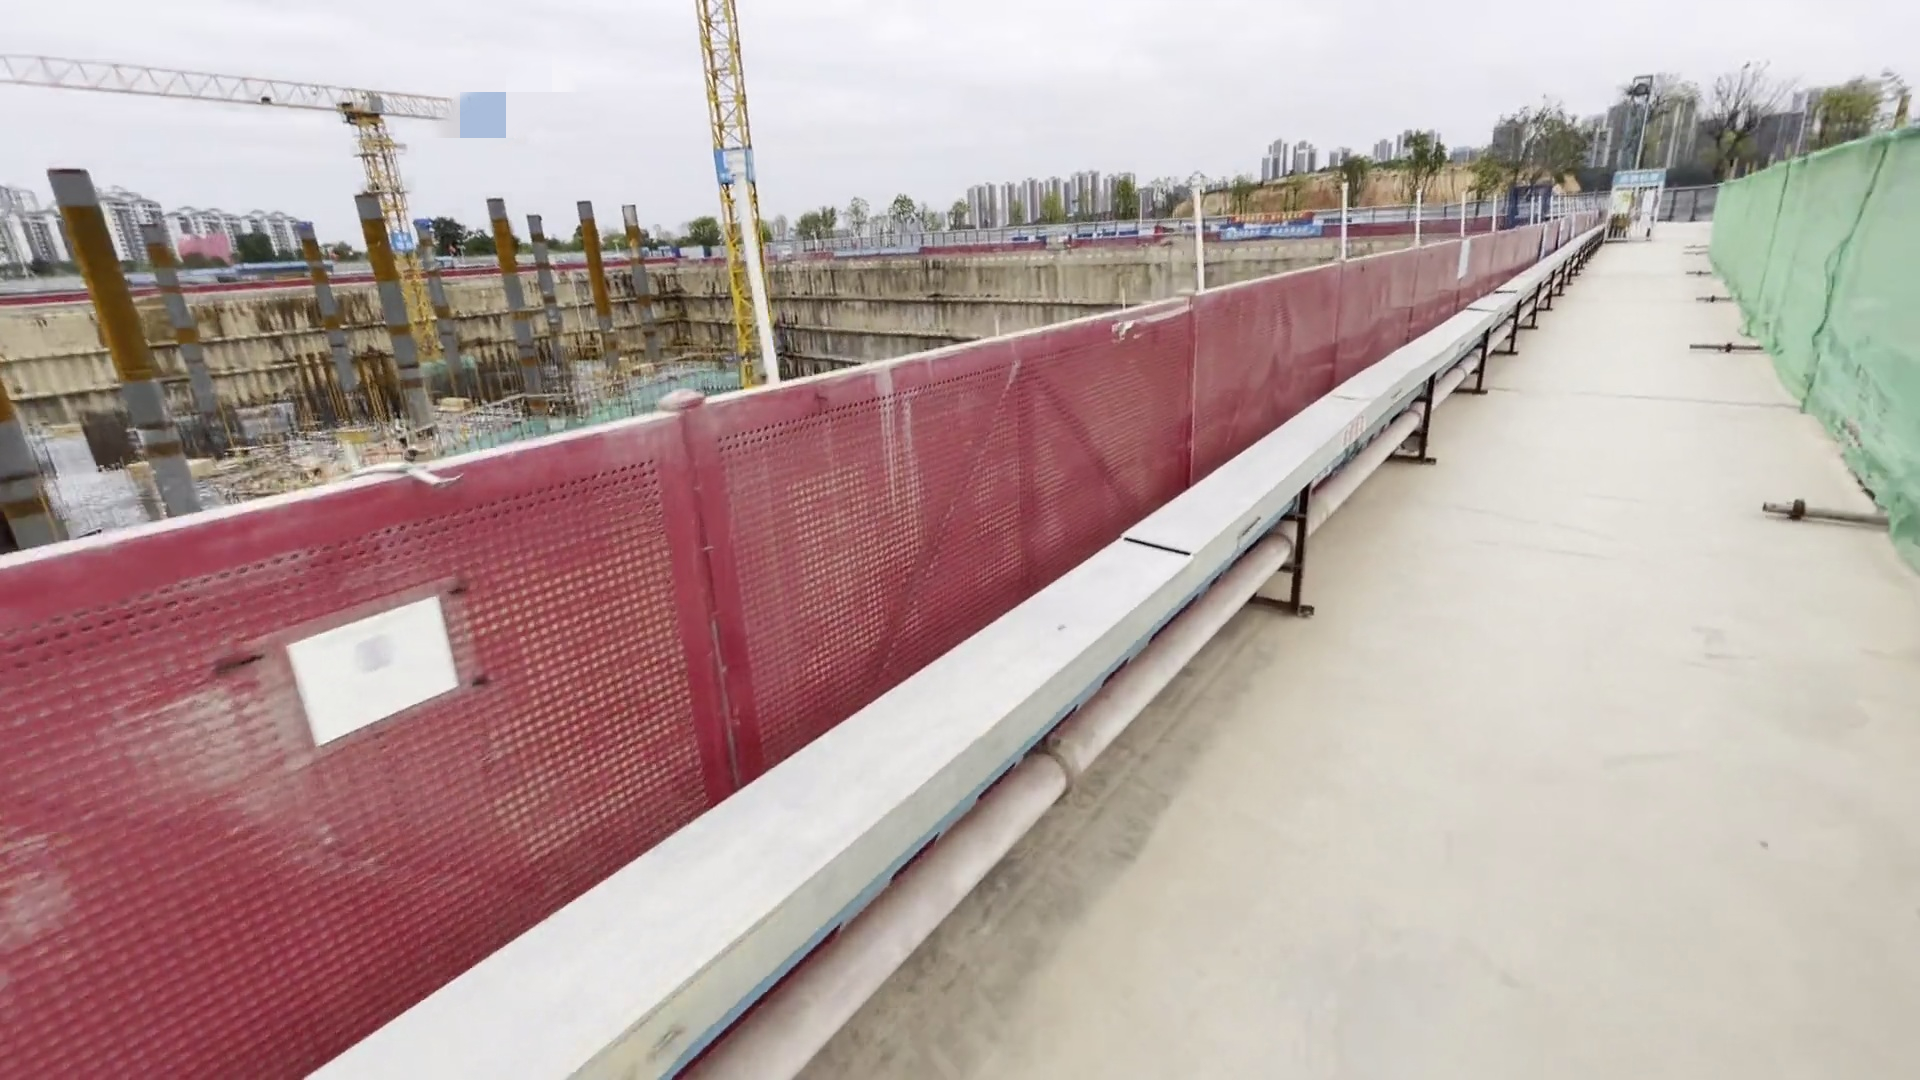fence: (1, 215, 1586, 1080)
